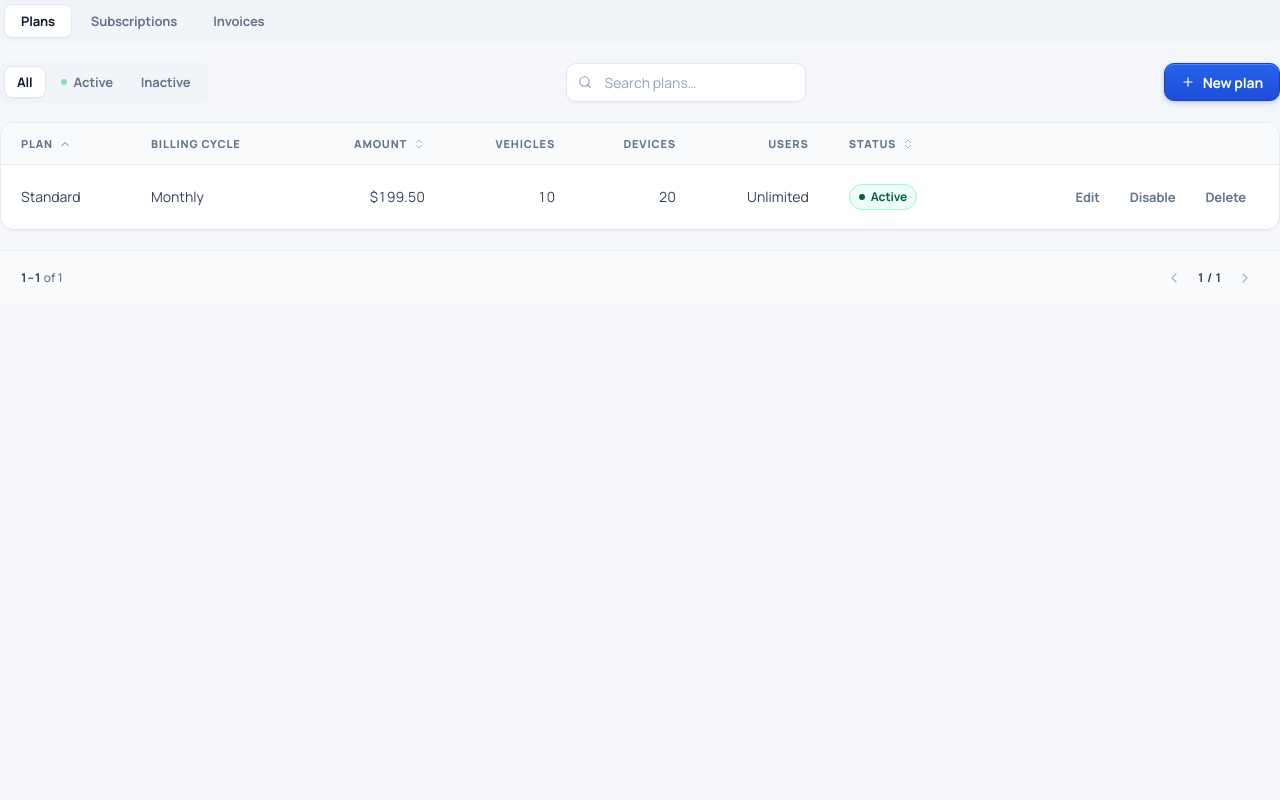
Test: BillingPage › opens the plan detail drawer on row click
Click the text "Standard" at (51, 197), box [21, 187, 81, 206]
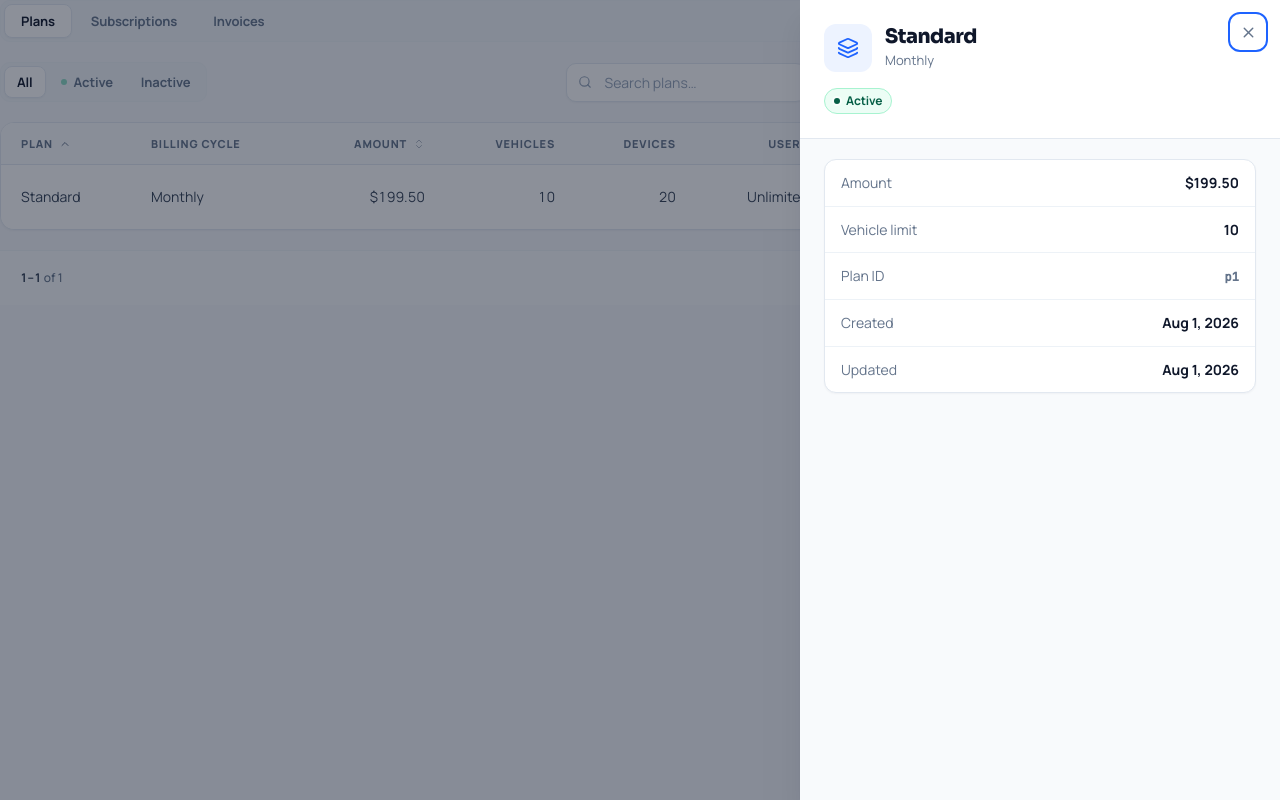
Check: the text "Plan ID" is shown, box [841, 265, 884, 287]
